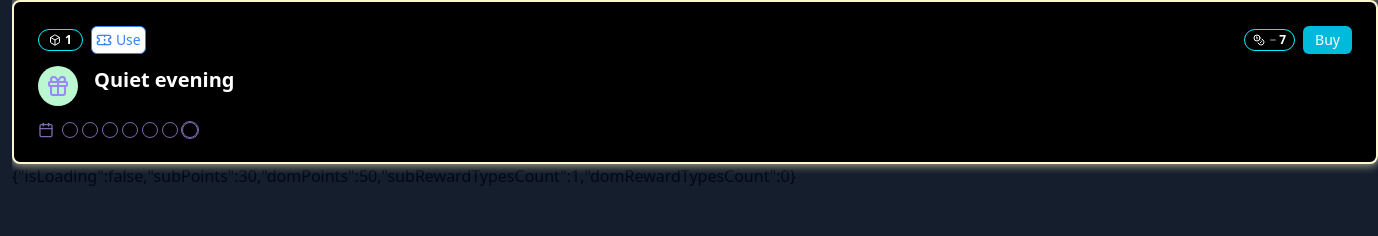
Test: actual reward controls use the recorded command path › does not fall back to old mutations when the command cannot be saved
This screenshot has width=1378, height=236.
Click the button "Buy".
click(1328, 40)  # box top-left (1303, 26), bottom-right (1352, 54)
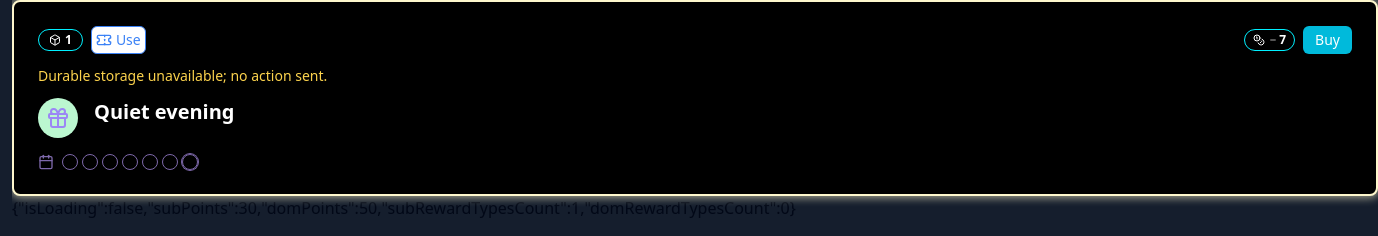
Expected: the text "\"subPoints\":30" is shown, top-left (12, 197), bottom-right (796, 219)
Expected: the message shows "no action sent", top-left (38, 66), bottom-right (327, 85)
